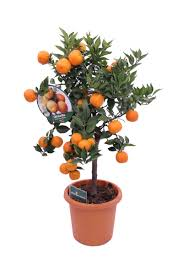orange: (68, 50, 84, 67), (88, 91, 105, 107), (55, 57, 70, 74), (106, 120, 124, 134), (24, 87, 39, 102), (35, 50, 50, 64), (125, 109, 139, 123), (115, 150, 129, 163), (66, 160, 78, 171), (50, 137, 63, 146), (71, 133, 81, 144)
